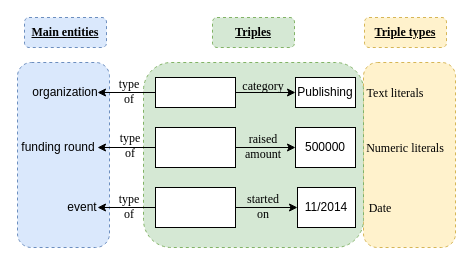
Some shapes in this 473 by 265 pixel diagram are drawn without their labels. The shapes that lost their labels are listed below. From the top down, each one's centre as x and y in pixels, then its label:
point 195,92: Wetpaint
point 195,147: Angel Round Meta
point 195,207: SF Music Tech Summit
